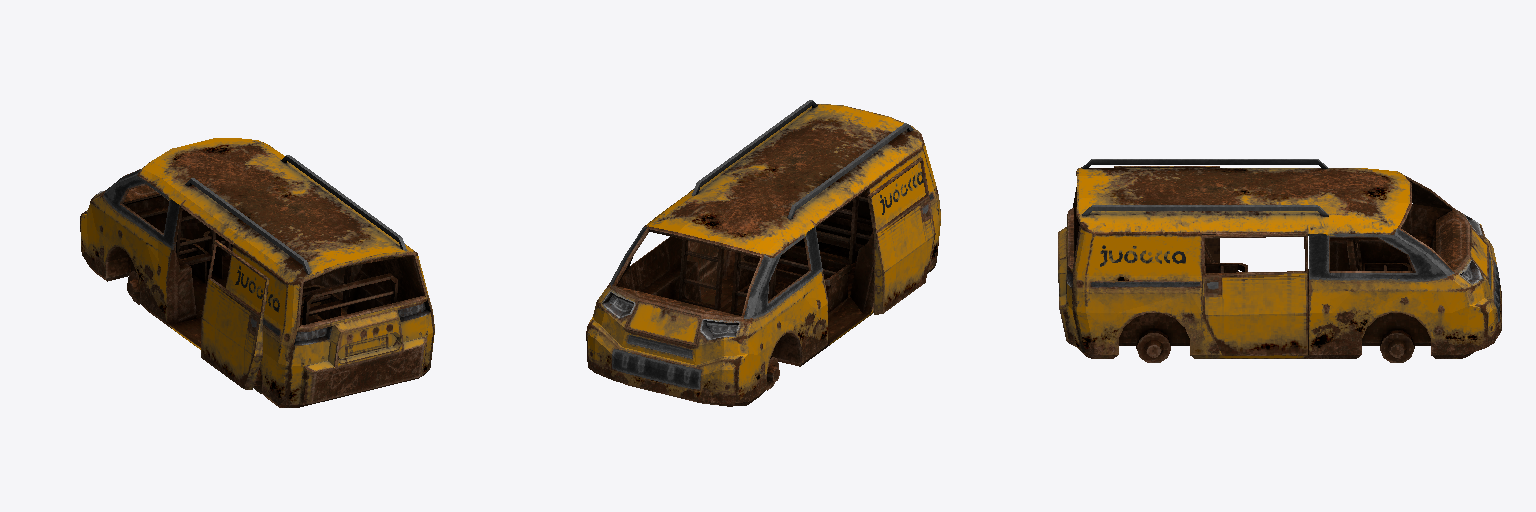
3 renders of one model, left to right at view 1: azimuth 30°, elevation 25°; view 2: azimuth 150°, elevation 25°; view 3: azimuth 270°, elevation 25°, orthographic.
Parts seen in each view (by area): view 1: Object001_Untitled; view 2: Object001_Untitled; view 3: Object001_Untitled.
Part boxes in pixels (left/top/right/bottom): Object001_Untitled: left=80, top=138, right=434, bottom=407; Object001_Untitled: left=586, top=100, right=940, bottom=406; Object001_Untitled: left=1058, top=159, right=1501, bottom=362.
Bounding box in the file's own units: 3.11 × 2.62 × 7.04.
1 materials, 1 textured.